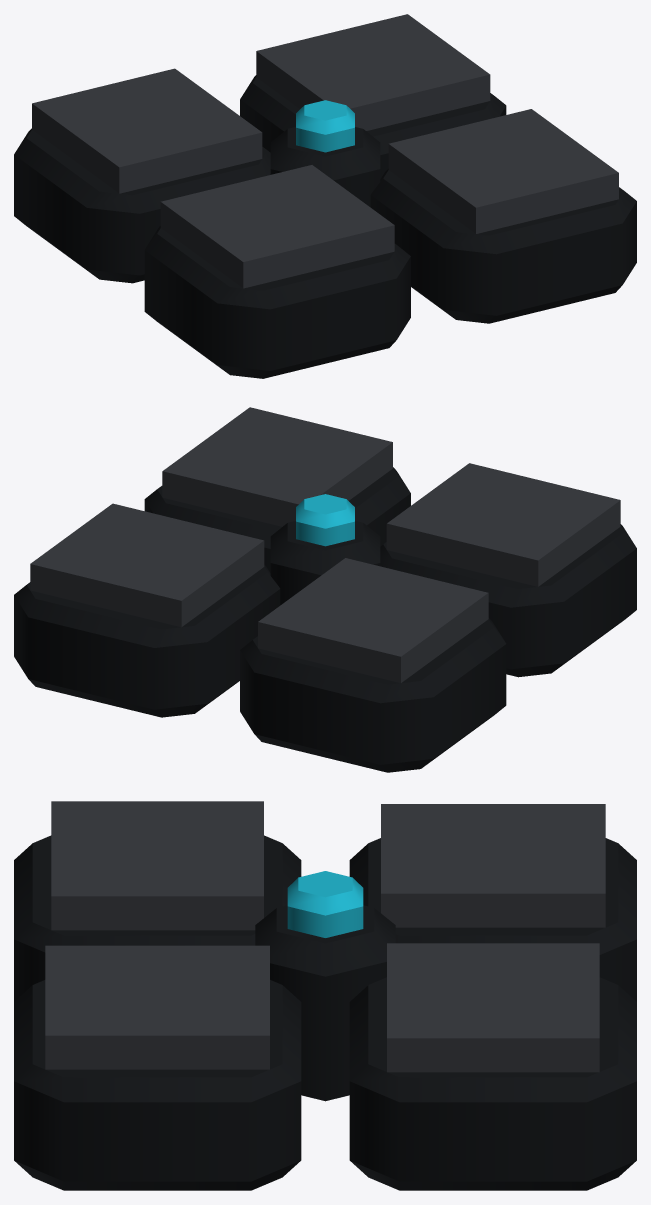
3 renders of one model, top to bottom at view 1: azimuth 30°, elevation 25°; view 2: azimuth 150°, elevation 25°; view 3: azimuth 270°, elevation 25°, orthographic. The views are drawn at different scales.
Parts seen in each view (by area): view 1: n10_rx; view 2: n10_rx; view 3: n10_rx.
Boxes of the visible parts, box(x1,y1,x2,y2) form: n10_rx: box(14, 14, 636, 378); n10_rx: box(14, 407, 636, 772); n10_rx: box(14, 801, 636, 1190).
Bounding box in the file's own units: 0.9974 × 0.323 × 0.9974.
